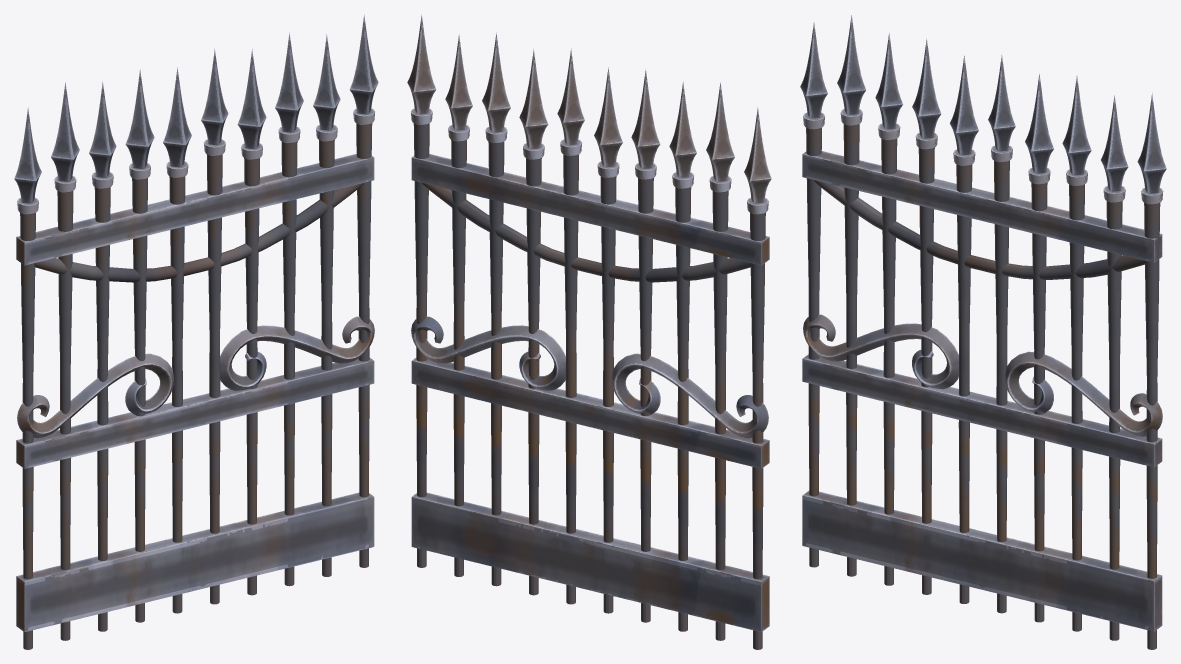
Rendered from Prop_MetalFence_Ornament.glb.
3 renders of one model, left to right at view 1: azimuth 30°, elevation 25°; view 2: azimuth 150°, elevation 25°; view 3: azimuth 330°, elevation 25°, orthographic.
Visible parts, largest first — view 1: Prop_MetalFence_Ornament; view 2: Prop_MetalFence_Ornament; view 3: Prop_MetalFence_Ornament.
Boxes of the visible parts, left/top/right/bottom form: Prop_MetalFence_Ornament: left=14, top=14, right=378, bottom=649; Prop_MetalFence_Ornament: left=407, top=14, right=771, bottom=649; Prop_MetalFence_Ornament: left=800, top=15, right=1166, bottom=649.
Size of the model in its own units: 1.95 by 2.85 by 0.156.
Materials: 1 (1 with a texture image).
